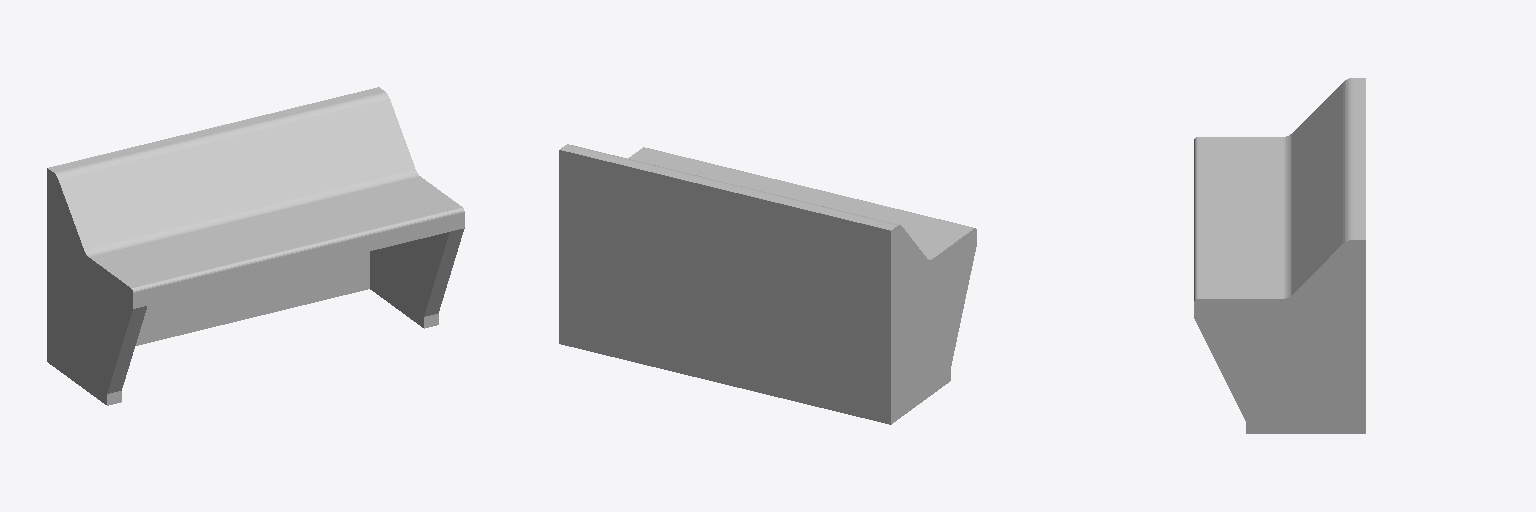
File: desk_6.obj
3 views of the same model, side by side, from view 1: azimuth 30°, elevation 25°; view 2: azimuth 150°, elevation 25°; view 3: azimuth 270°, elevation 25° (orthographic).
Parts seen in each view (by area): view 1: Cube.069_Cube.017; view 2: Cube.069_Cube.017; view 3: Cube.069_Cube.017.
Part boxes in pixels (x1,y1,x2,y2): Cube.069_Cube.017: (47,87,464,405); Cube.069_Cube.017: (559,144,976,424); Cube.069_Cube.017: (1194,78,1365,433).
Size of the model in its own units: 4.9 by 2.74 by 2.19.